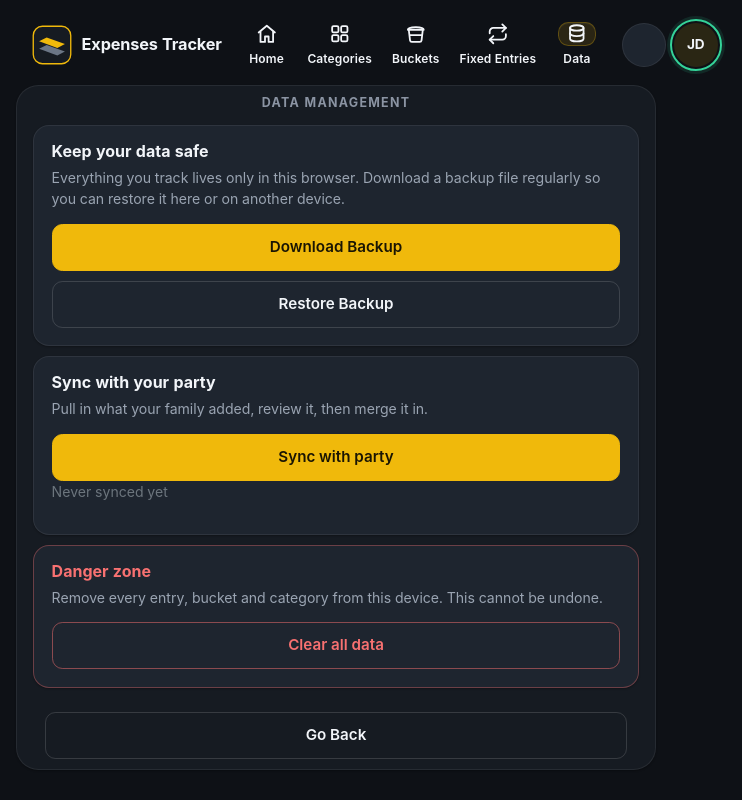
Test: no-wizard sync paths › EC-1: first sync uploads the local snapshot and confirms distinctly
Click the button "Sync with party": click(336, 457) [52,434,620,481]
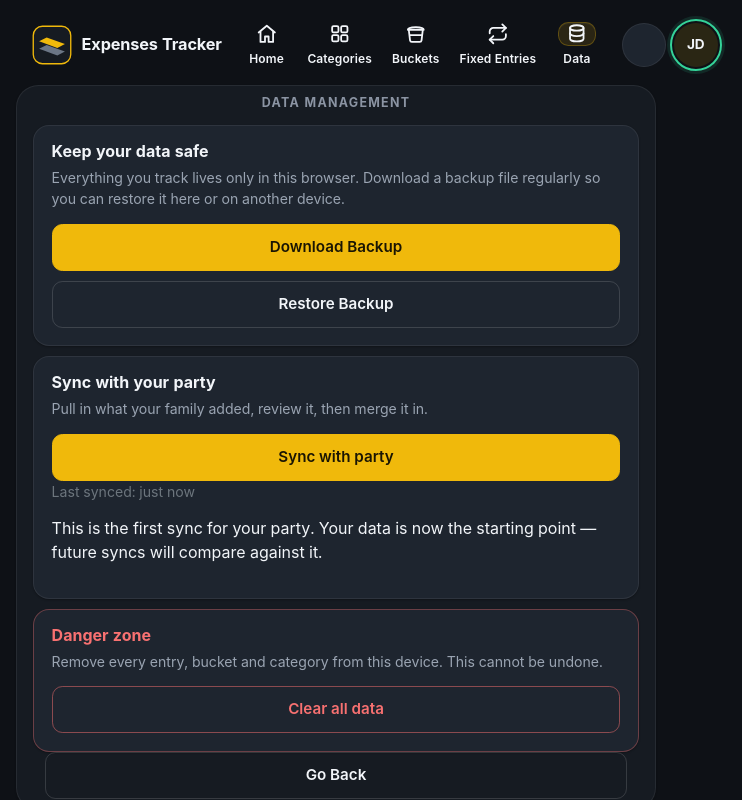
Now the text "This is the first sync for your party. Your data is now the starting point — future syncs will compare against it." is shown, box [52,518,596,562]
Now the text "Last synced: just now" is shown, box [52,483,195,500]
